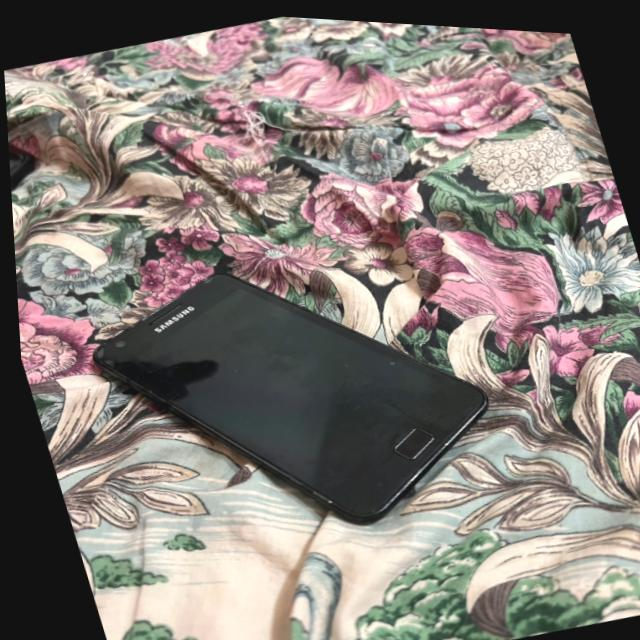Smartphone: (89, 272, 483, 519)
